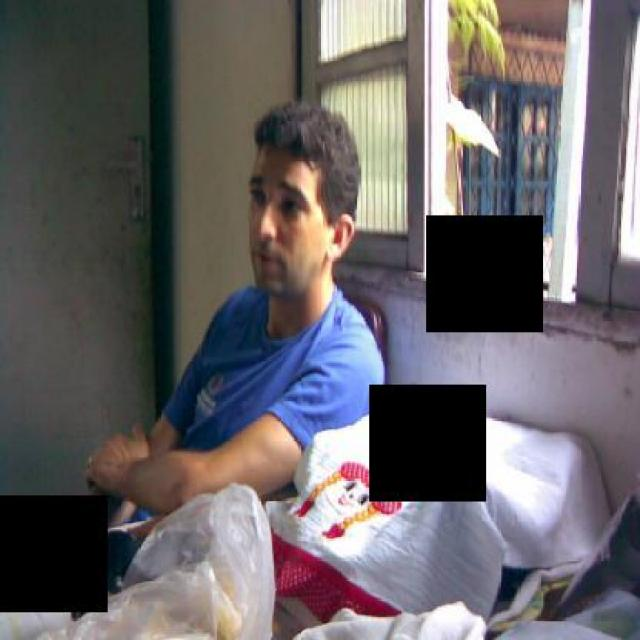plastic bag: (34, 480, 275, 638)
